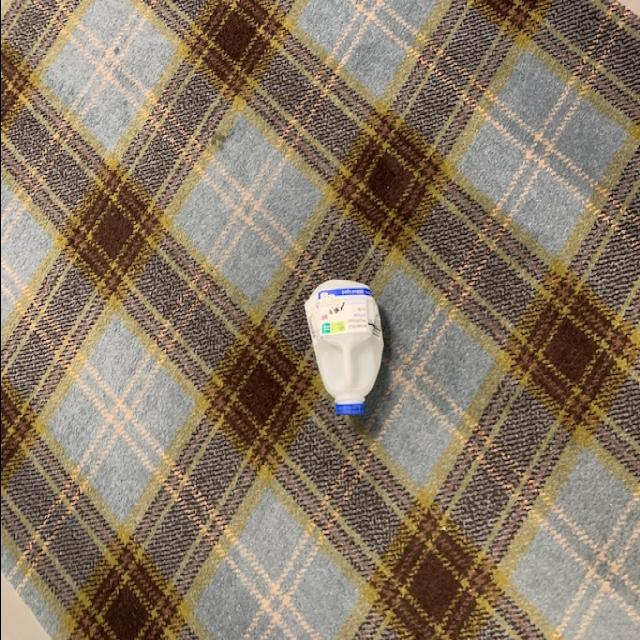litter: (298, 278, 388, 417)
